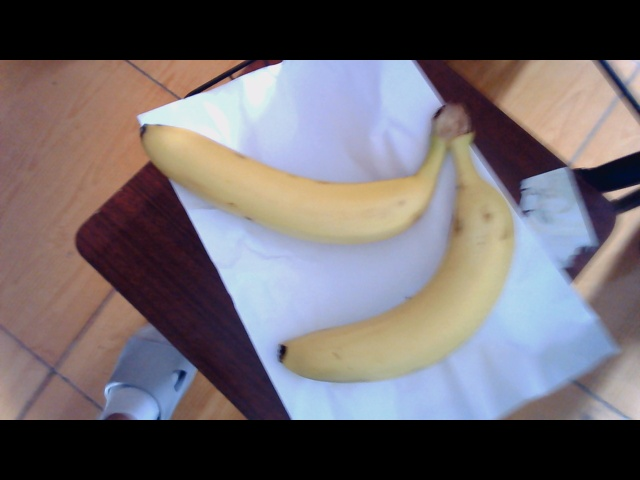banana: (274, 244, 564, 387), (139, 109, 431, 246)
